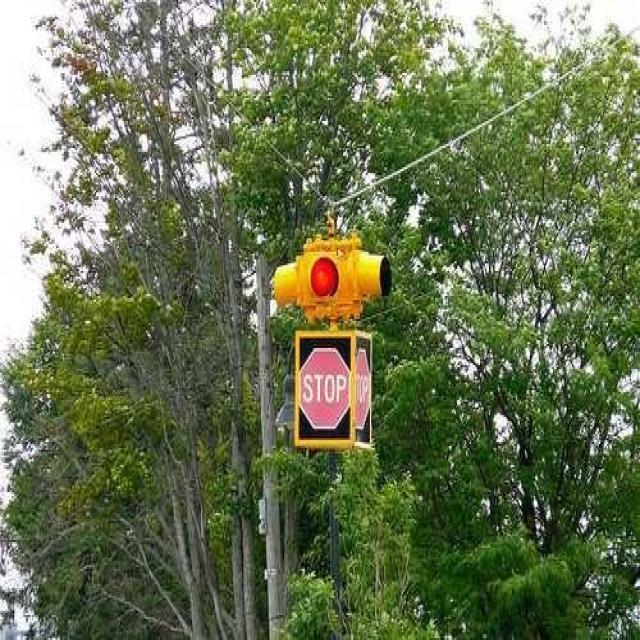red_light: (303, 250, 347, 318)
